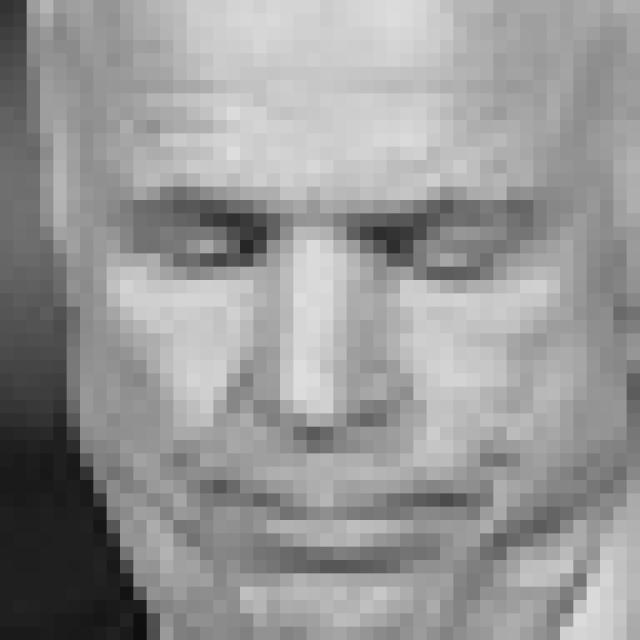sad: (109, 168, 542, 578)
